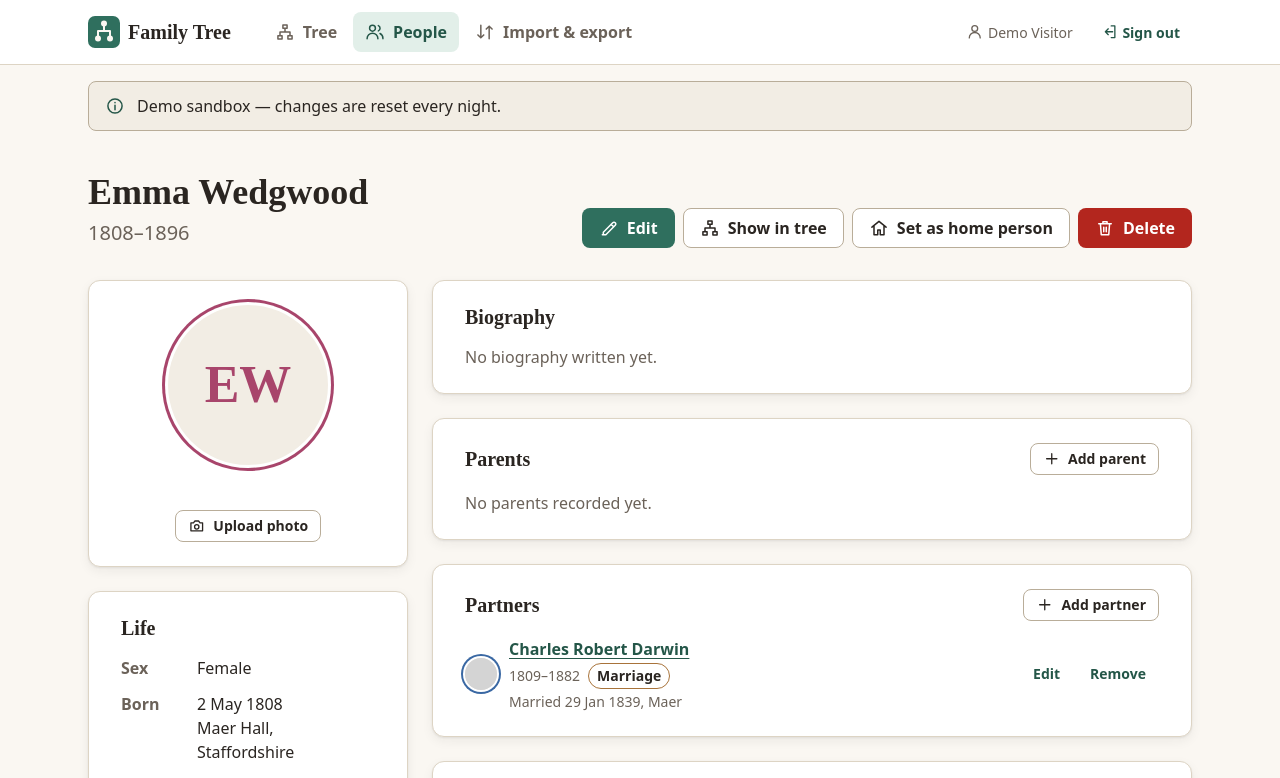
Scenario: adding a parent picks a candidate, sets the kind and shows the new parent
The width and height of the screenshot is (1280, 778).
Click the button "Add parent" at {"x": 1094, "y": 459}, box [1030,443,1159,475]
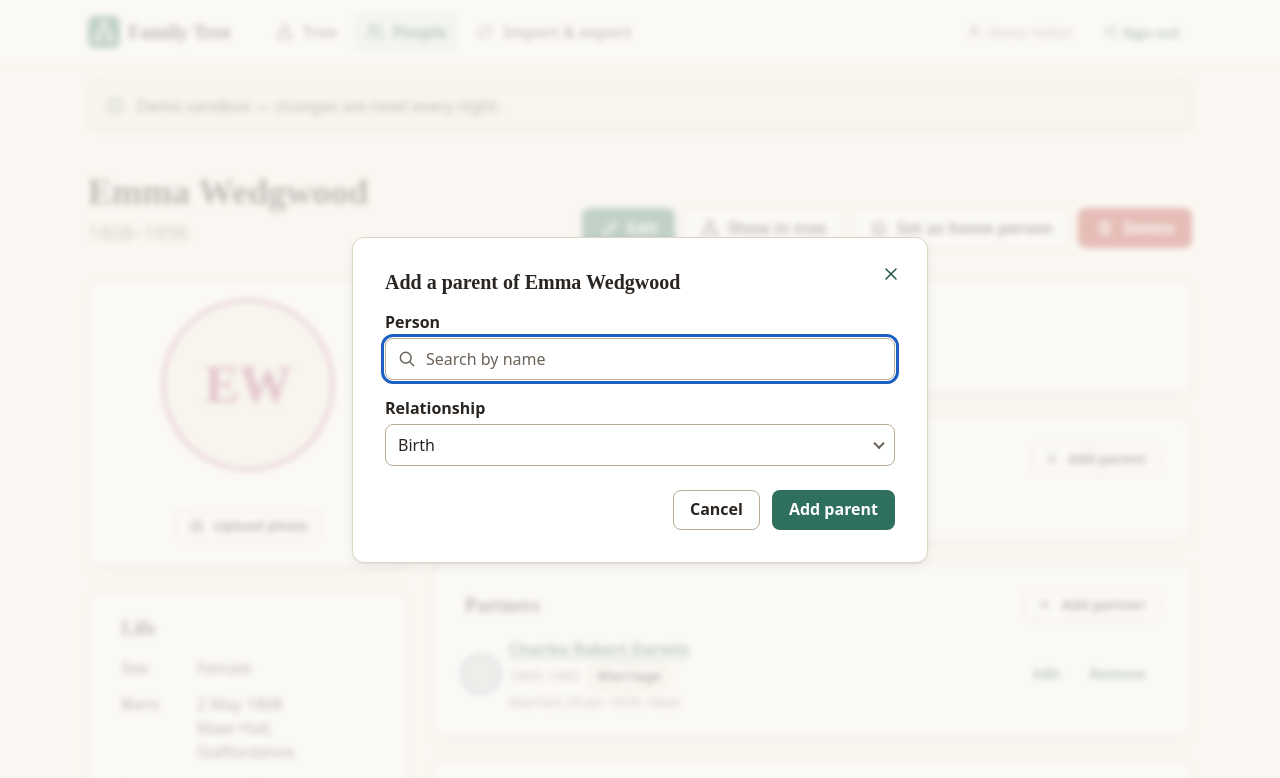
Type "robert" into the dropdown labelled "Person" at {"x": 640, "y": 359}, box [385,338,895,380]
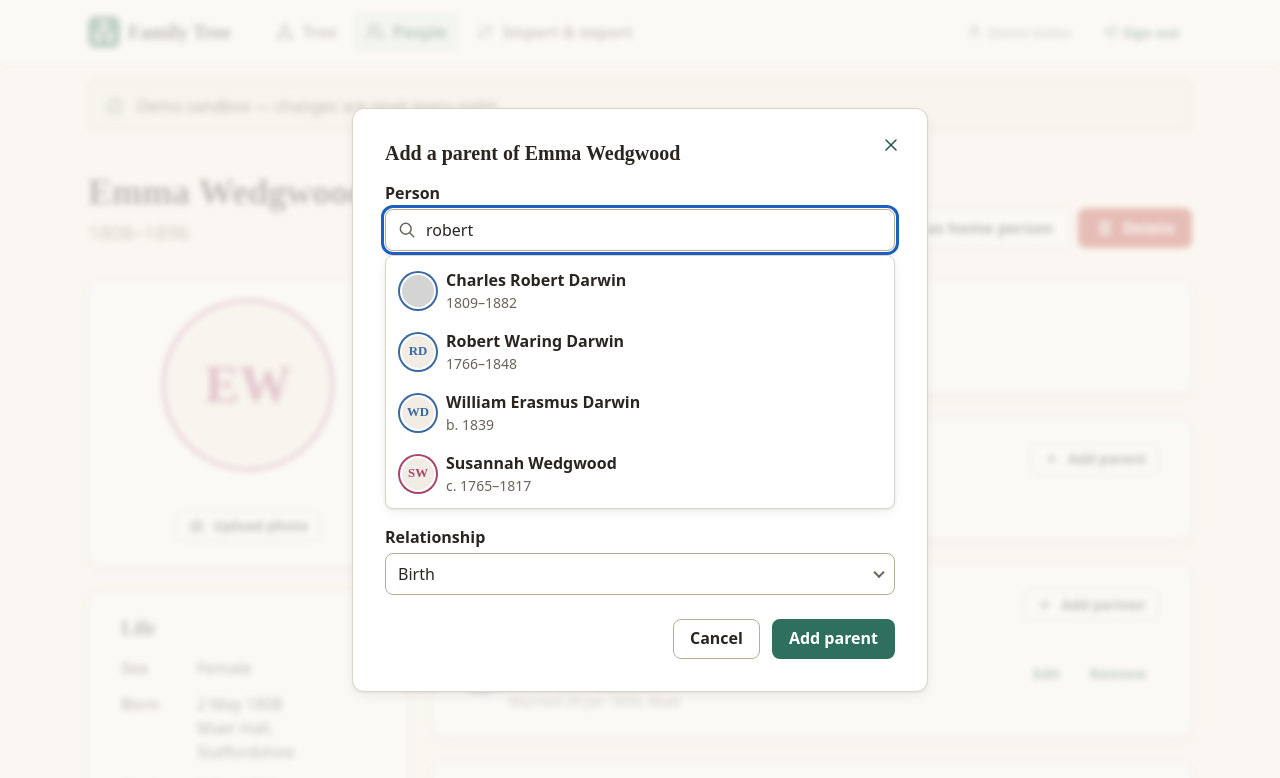
Click the option "RD Robert Waring Darwin 1766–1848" at {"x": 513, "y": 352}, box [402,330,624,373]
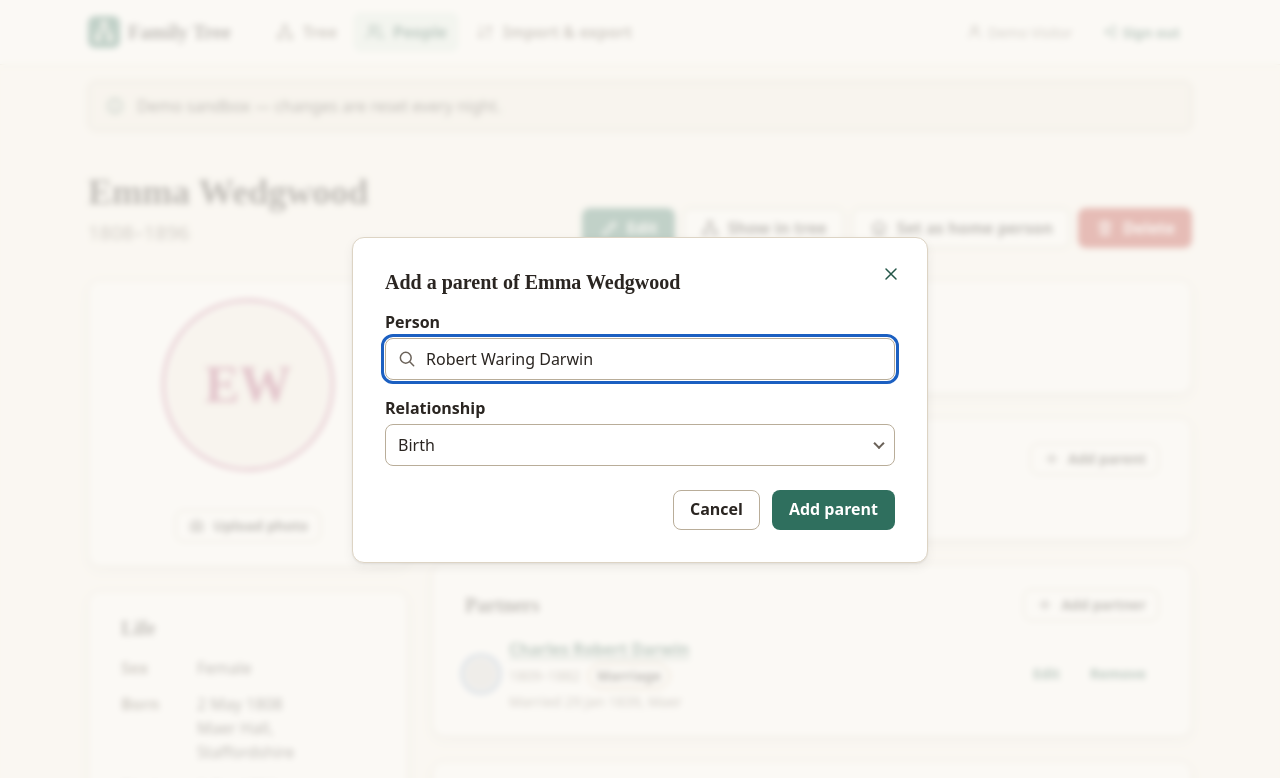
Select "Adopted" in the dropdown labelled "Relationship" at {"x": 640, "y": 445}, box [385,424,895,466]
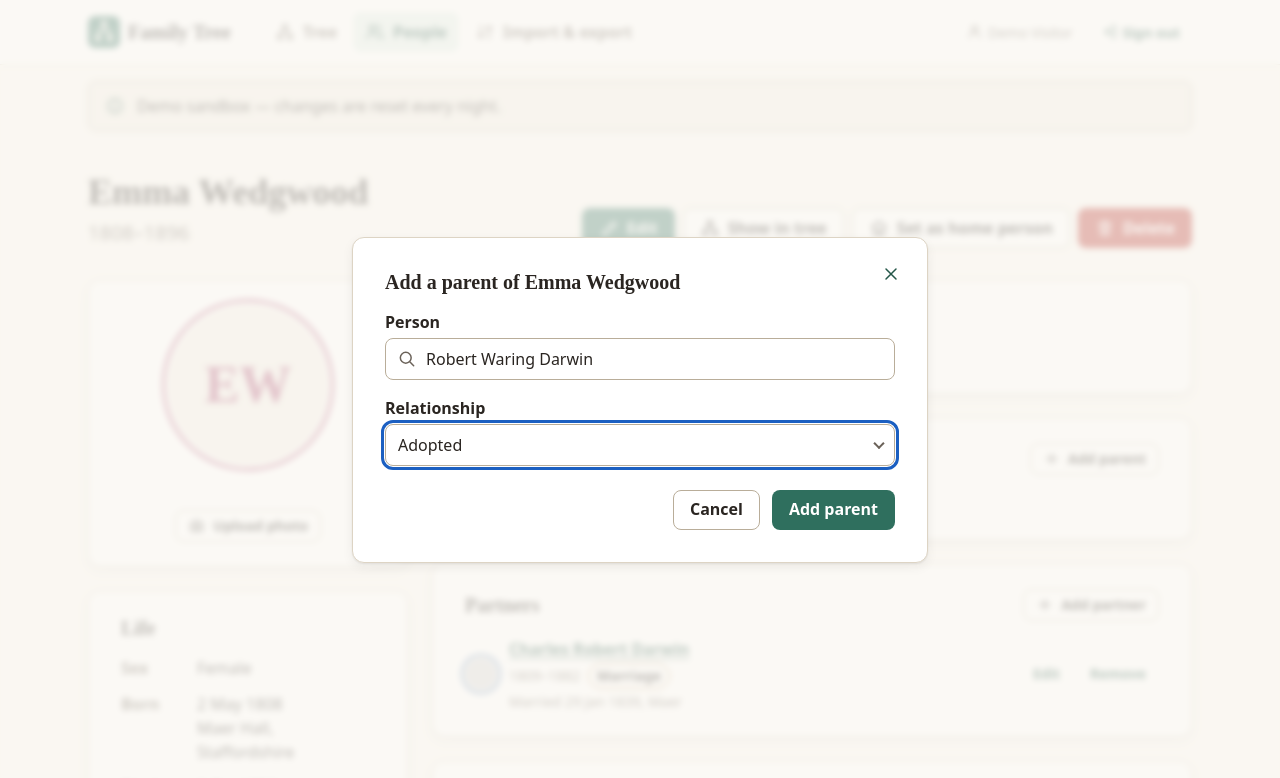
Click the button "Add parent" at {"x": 833, "y": 510}, box [772,490,895,530]
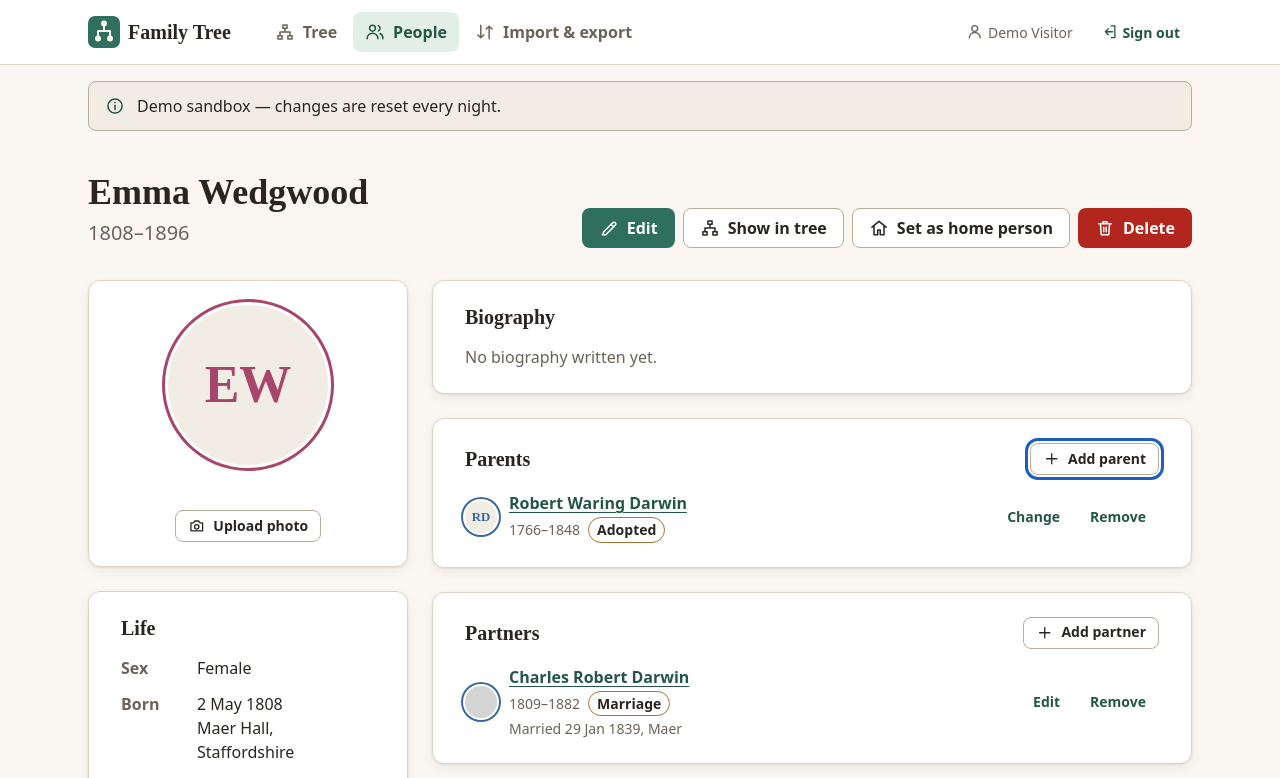
Check: the dialog is gone
Check: the link "Robert Waring Darwin" is shown, box [509,492,687,514]
Check: the element "Parents" shows "Adopted", box [597,520,656,539]
